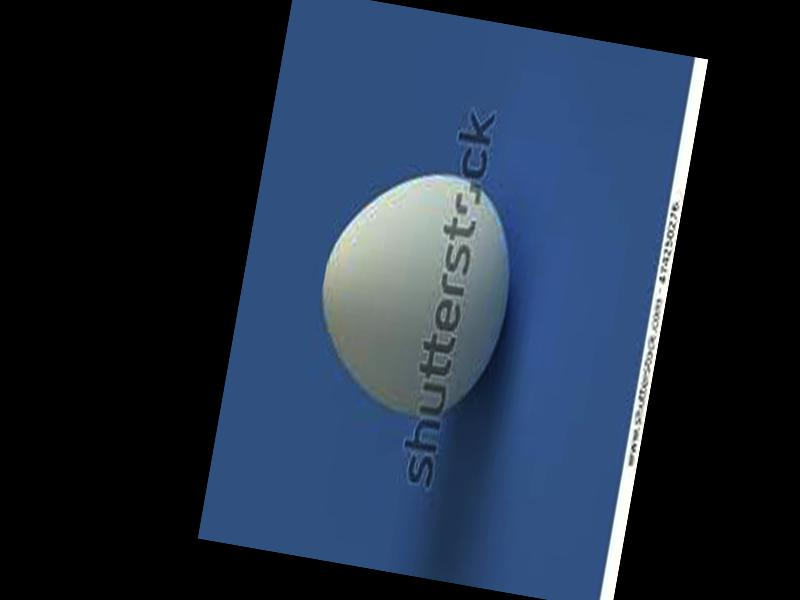Eggs: (303, 155, 529, 428)
